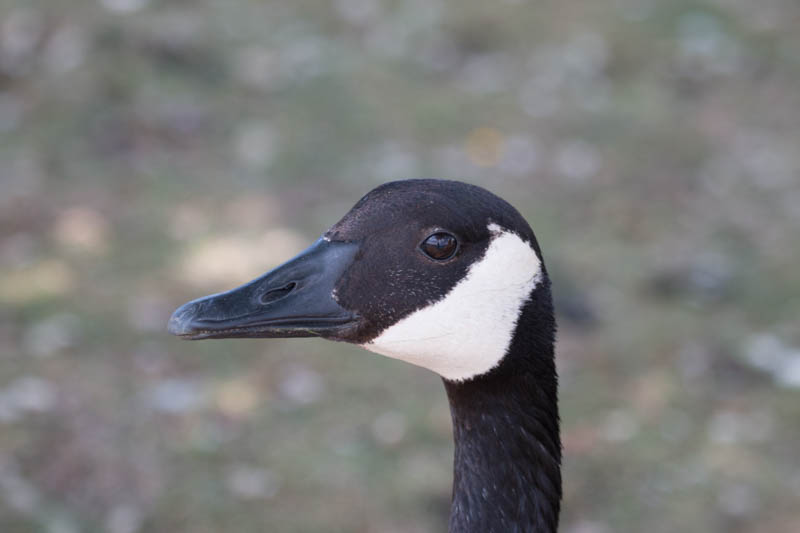goose-head: (164, 178, 556, 381)
